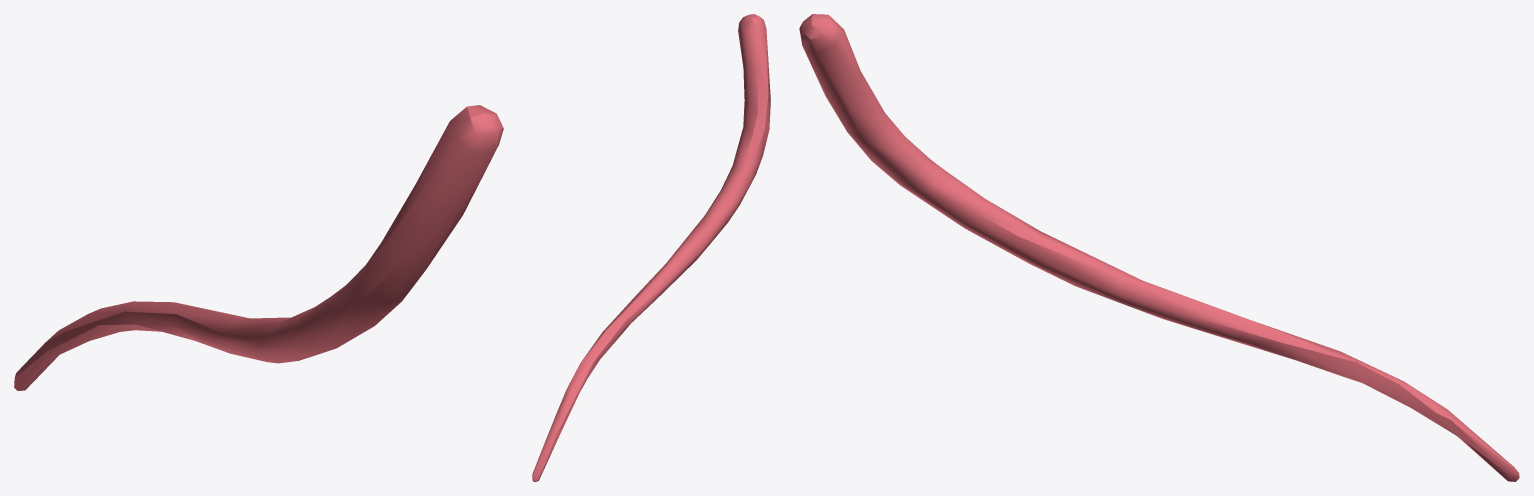
Rendered from fma70187_fj3468.glb.
The picture shows the model from 3 angles, left to right: view 1: azimuth 30°, elevation 25°; view 2: azimuth 150°, elevation 25°; view 3: azimuth 270°, elevation 25°; orthographic projection. The views are drawn at different scales.
Visible parts, largest first — view 1: FMA70187_FJ3468; view 2: FMA70187_FJ3468; view 3: FMA70187_FJ3468.
Boxes of the visible parts, left/top/right/bottom form: FMA70187_FJ3468: left=14, top=105, right=503, bottom=390; FMA70187_FJ3468: left=532, top=14, right=770, bottom=481; FMA70187_FJ3468: left=799, top=14, right=1519, bottom=481.
Size of the model in its own units: 0.0113 by 0.0645 by 0.0897.
